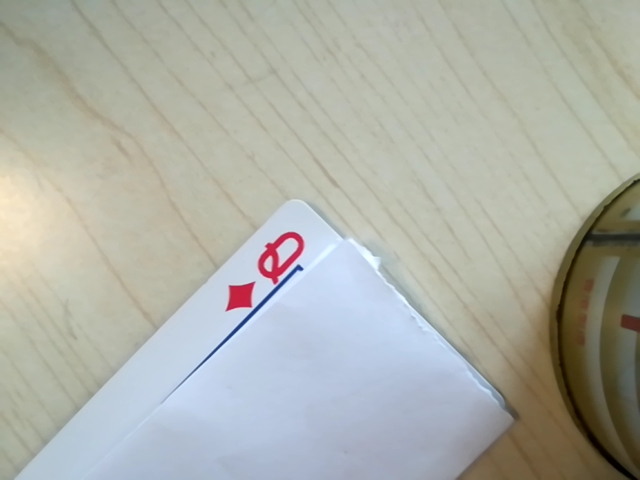fk q: (222, 225, 313, 319)
